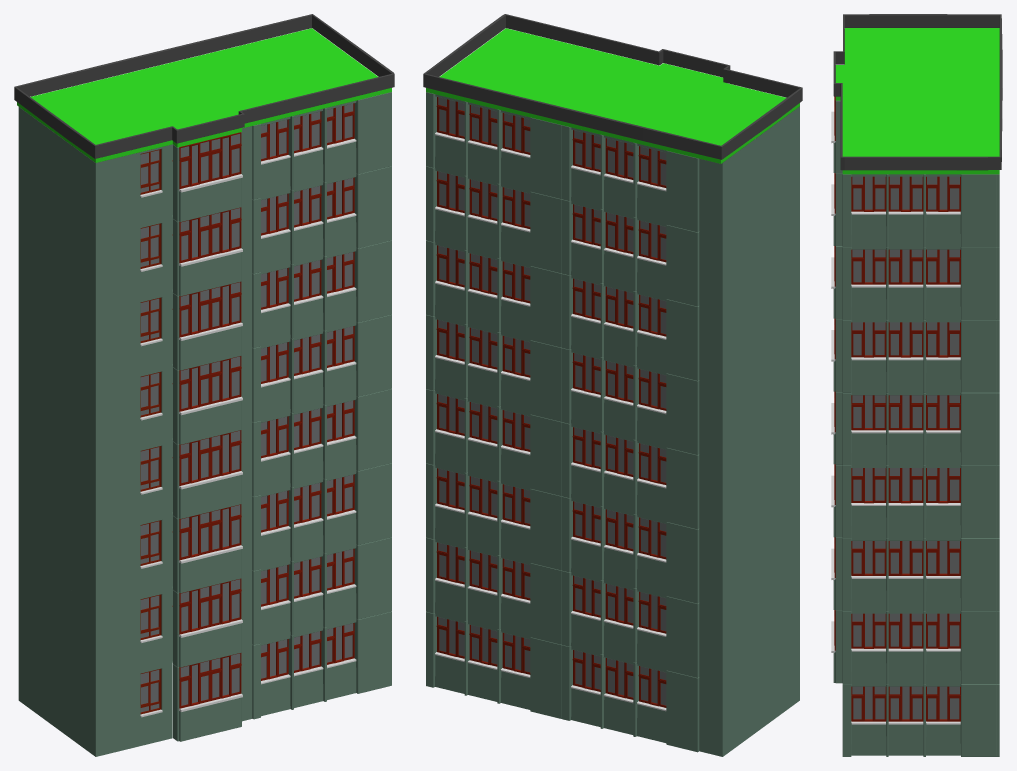
Rendered from SM_Building_4.fbx.
The picture shows the model from 3 angles, left to right: view 1: azimuth 30°, elevation 25°; view 2: azimuth 150°, elevation 25°; view 3: azimuth 270°, elevation 25°; orthographic projection.
Parts seen in each view (by area): view 1: Plane.020; view 2: Plane.020; view 3: Plane.020.
Boxes of the visible parts, x1,y1,x2,y2 form: Plane.020: (14, 14, 394, 756); Plane.020: (423, 14, 802, 756); Plane.020: (831, 14, 1002, 756).
Bounding box in the file's own units: 1362 × 2654 × 685.
